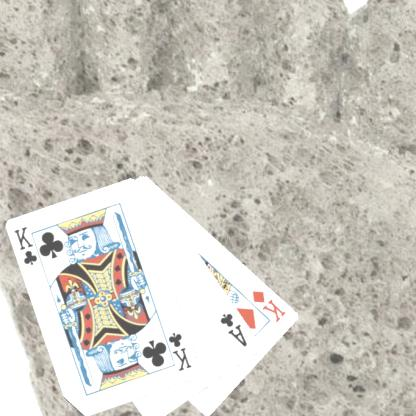AC: (217, 310, 249, 348)
KC: (160, 328, 193, 372), (12, 224, 45, 268)
KD: (249, 287, 288, 324)
